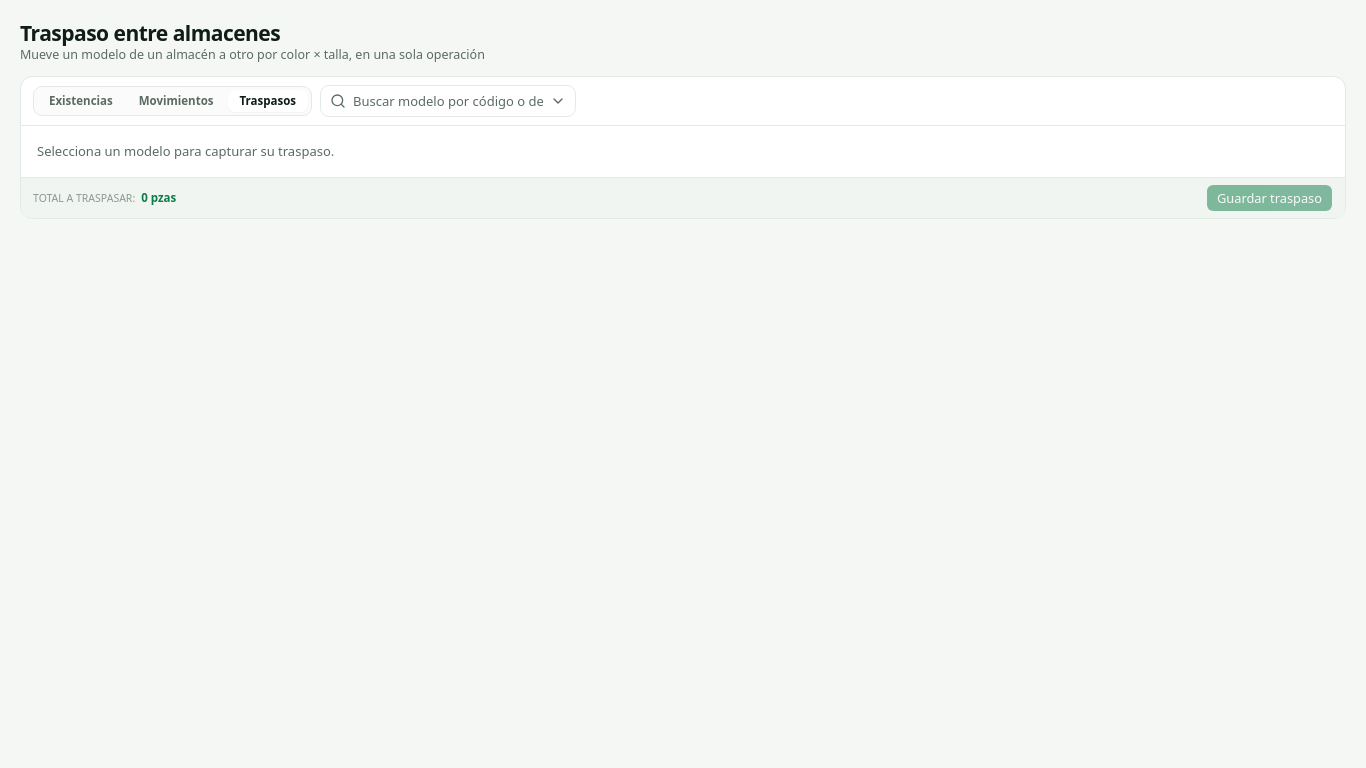
Scenario: TraspasosPtPagina (F3-E3) › avisa y NO permite guardar si origen = destino
Click the dropdown with test id "selector-modelo-busqueda" at (448, 101), box 320,85 -> 576,117
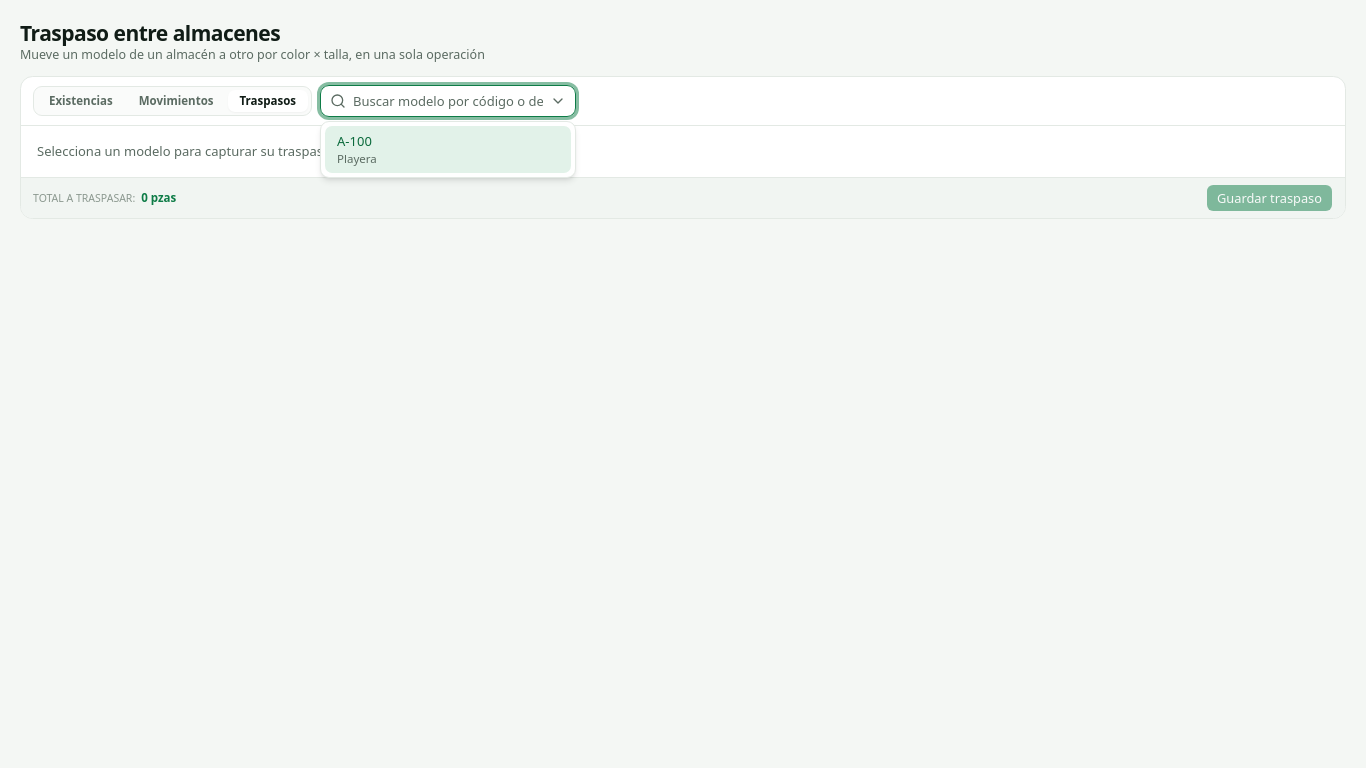
Click the option with test id "selector-modelo-opcion" at (448, 150), box 325,126 -> 571,173
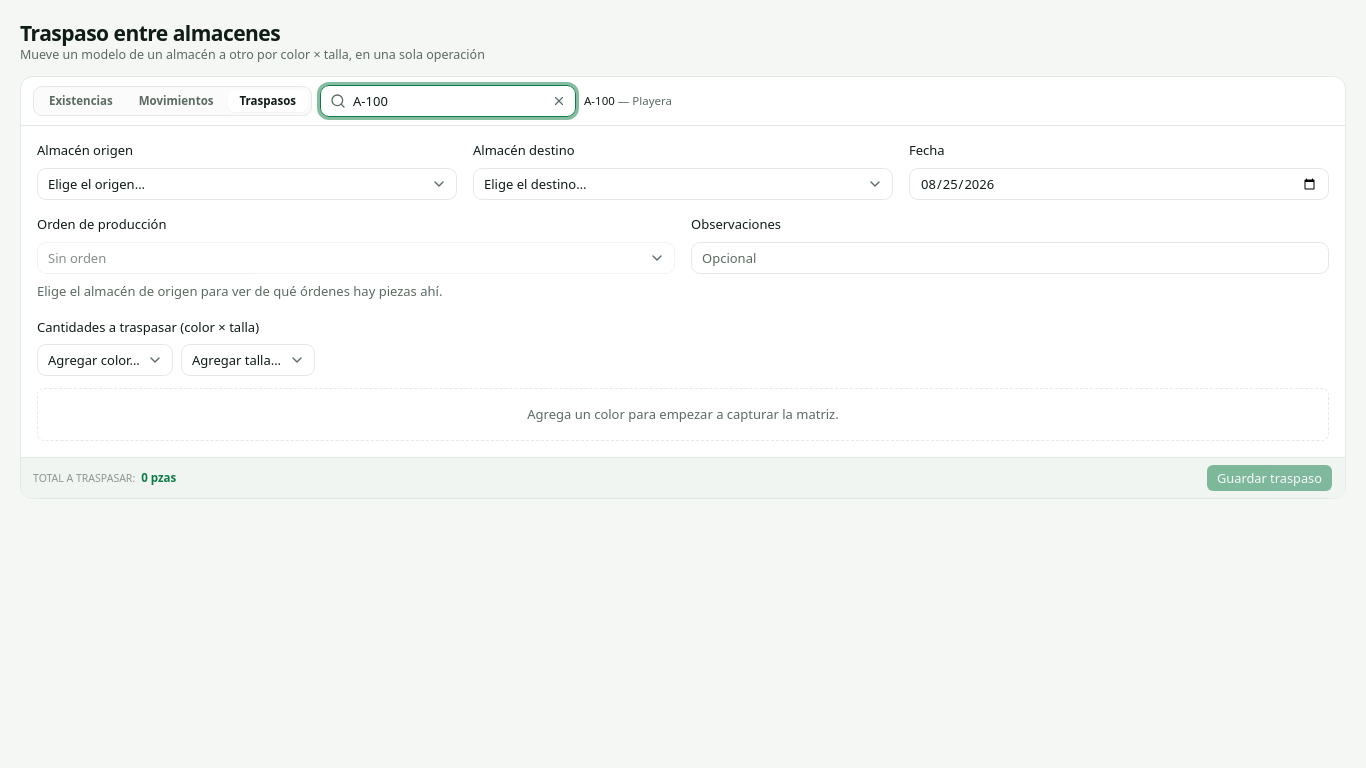
Select "Primeras" in the dropdown with test id "traspaso-origen" at (247, 184), box 37,168 -> 457,200
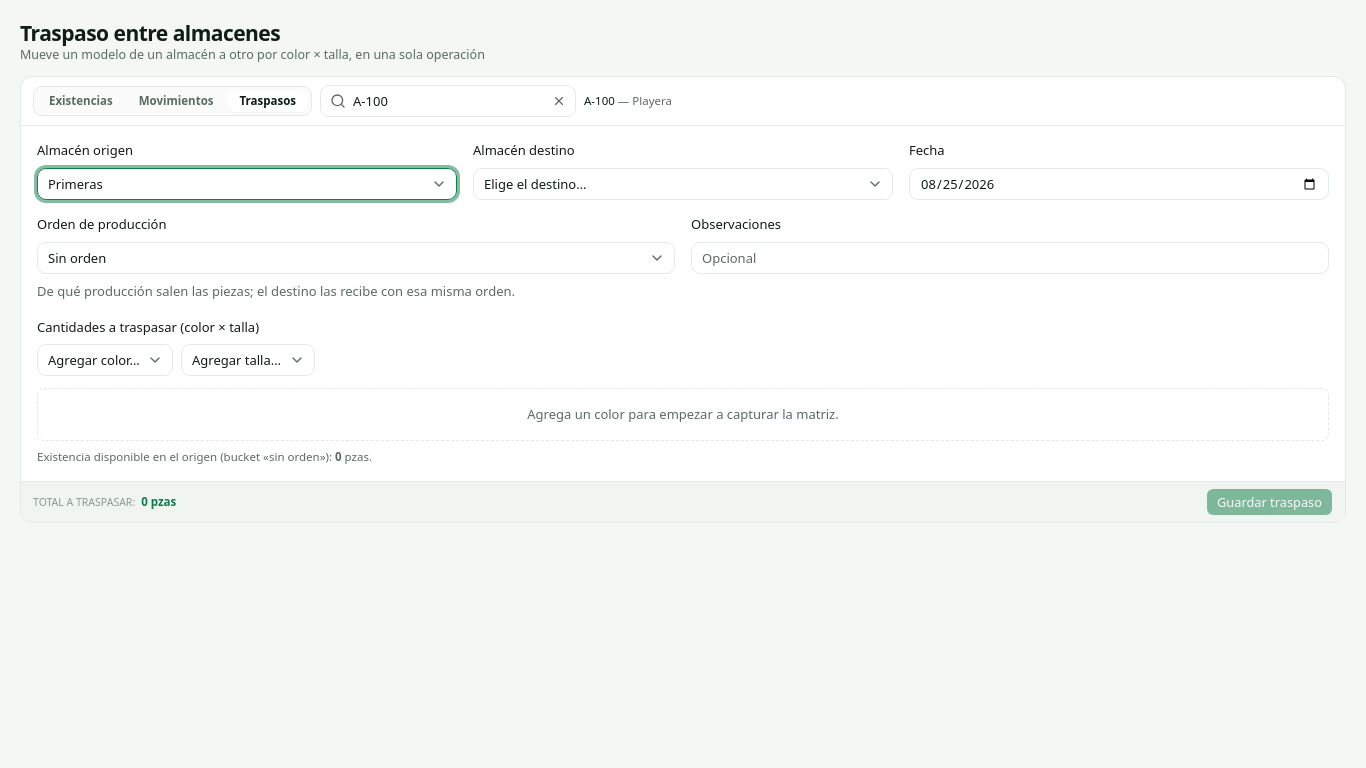
Select "Primeras" in the dropdown with test id "traspaso-destino" at (683, 184), box 473,168 -> 893,200
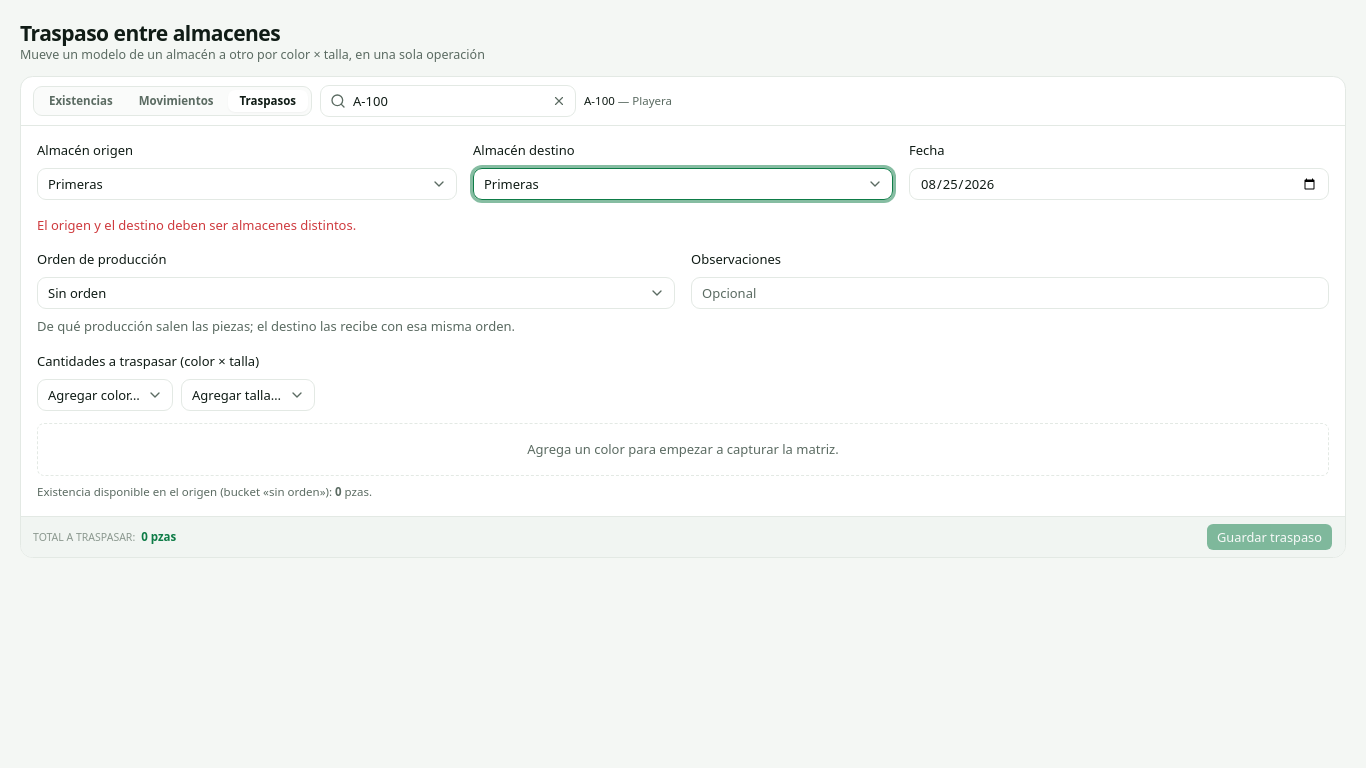
Check: the button with test id "traspaso-guardar" is disabled, box 1206,523 -> 1333,551
Check: the text "El origen y el destino deben ser almacenes distintos." is shown, box 37,216 -> 356,234
